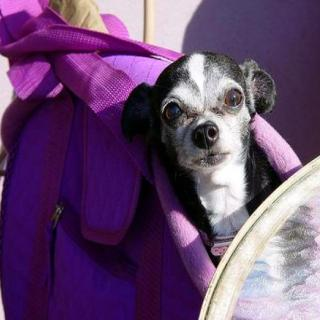dog: (141, 45, 284, 196)
nose: (186, 120, 223, 151)
